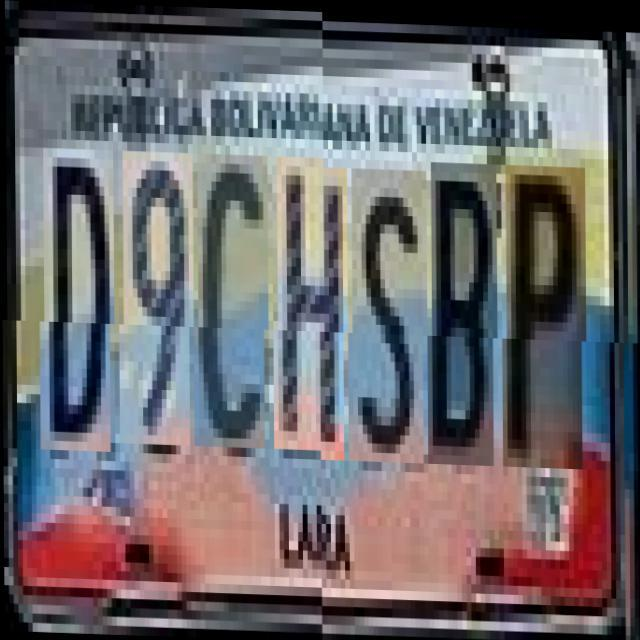9: (122, 158, 194, 454)
B: (430, 159, 498, 462)
C: (197, 160, 269, 456)
D: (43, 157, 115, 460)
H: (276, 163, 348, 458)
P: (505, 161, 586, 465)
S: (352, 166, 428, 460)
